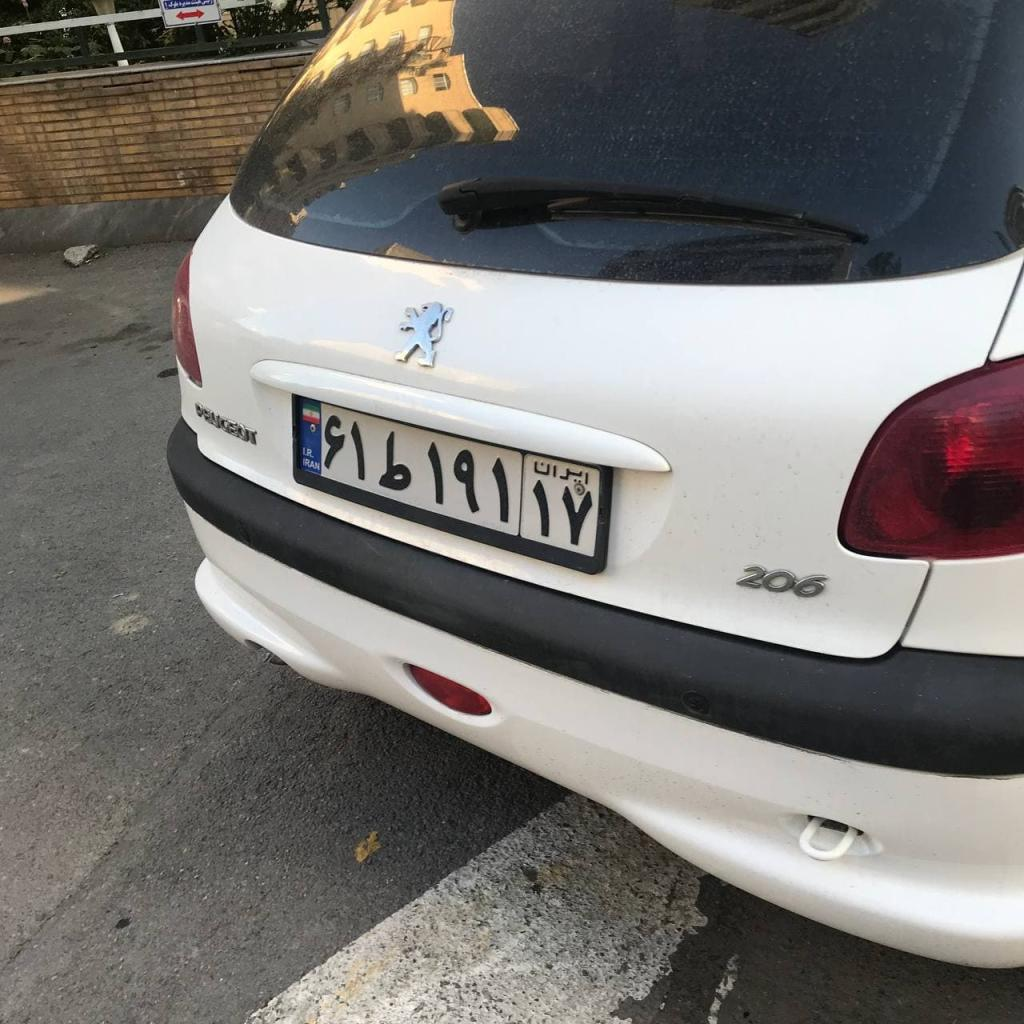Plates: (297, 398, 604, 559)
